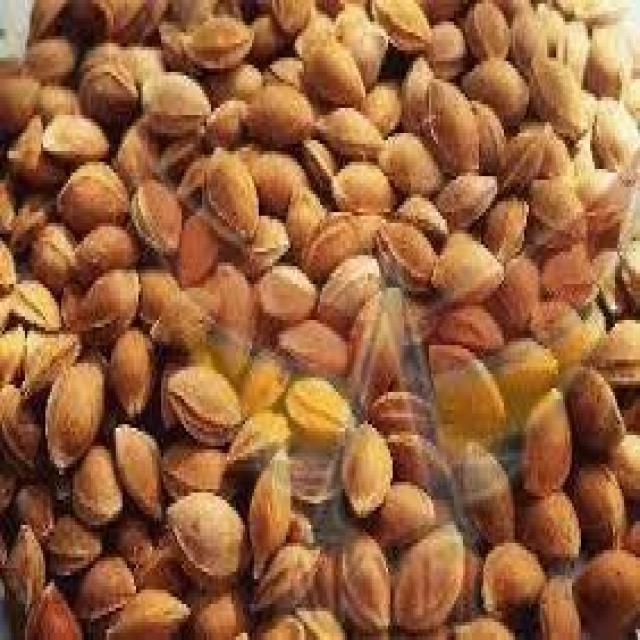cekirdek: (46, 362, 105, 471), (166, 372, 248, 443)
